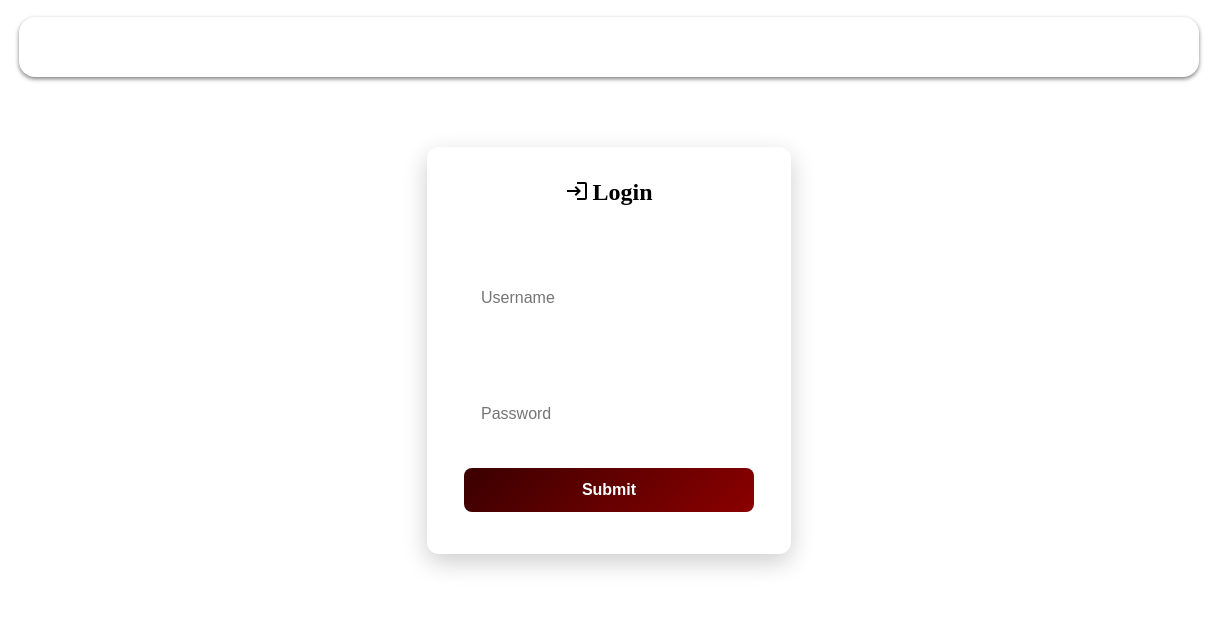
Scenario: Login Page Integration › renders all kind of errors
Click the button "Submit" at {"x": 609, "y": 490}, box [464,468,754,512]
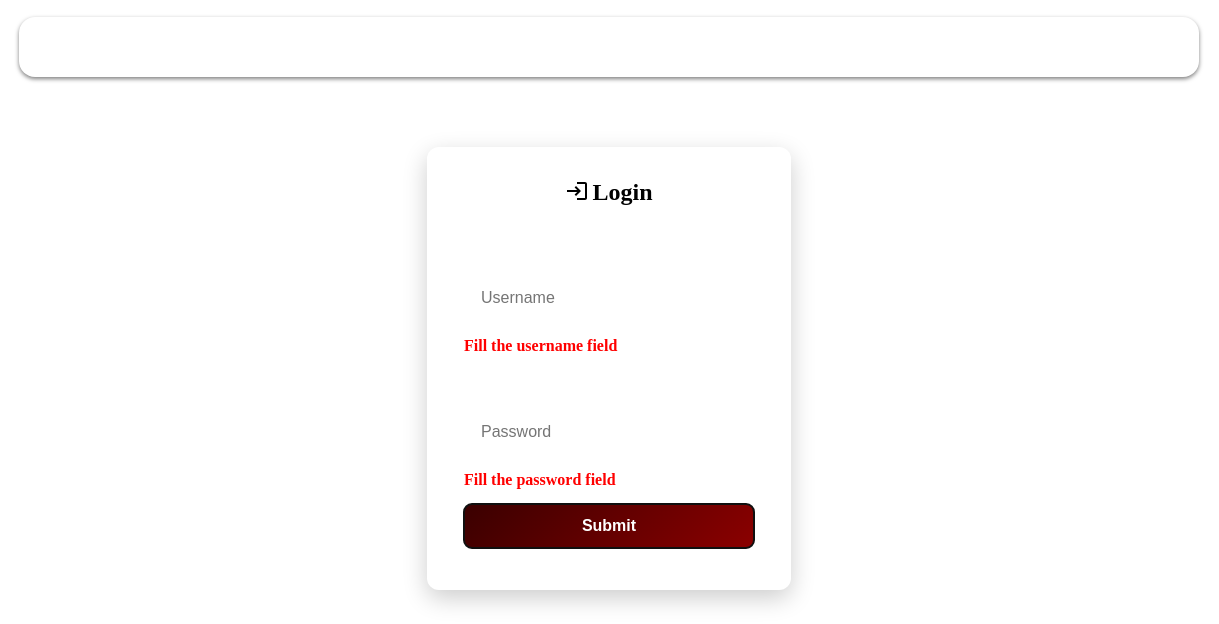
expect the text "Fill the username field" is shown: met, box [464,337,617,354]
expect the text "Fill the password field" is shown: met, box [464,471,616,488]
